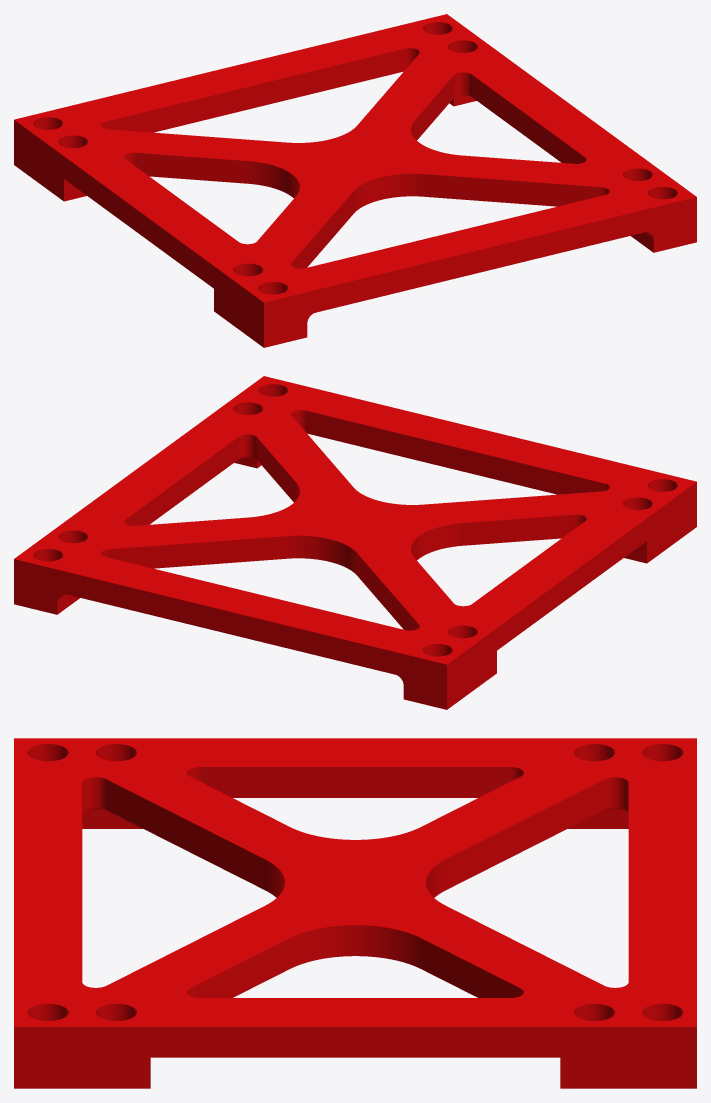
3 views of the same model, one above another, from view 1: azimuth 30°, elevation 25°; view 2: azimuth 150°, elevation 25°; view 3: azimuth 270°, elevation 25° (orthographic). The views are drawn at different scales.
Visible parts, largest first — view 1: Side Left; view 2: Side Left; view 3: Side Left.
Part boxes in pixels (box(x1,y1,x2,y2)): Side Left: box(14, 14, 696, 347); Side Left: box(14, 376, 696, 709); Side Left: box(14, 738, 696, 1088).
Size of the model in its own units: 100 by 10 by 100.
